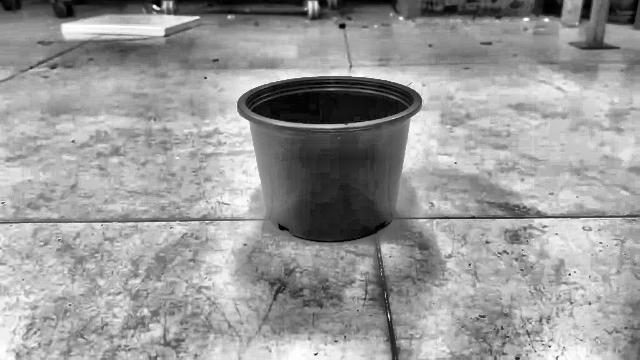pot: (237, 76, 421, 242)
